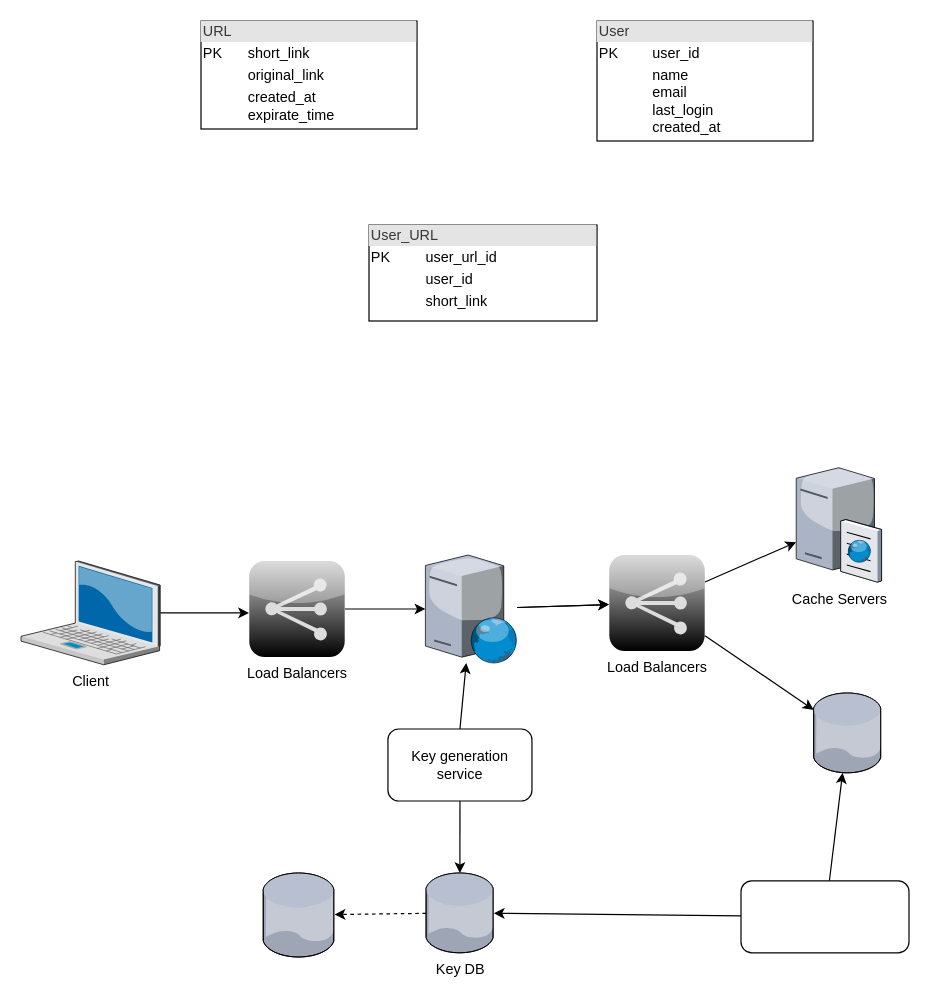
Some shapes in this 930 by 1003 pixel diagram are drawn without their labels. Here are the shapes that lost their labels. From the top down, the centre of each, then its label:
[471,608]: Application Servers
[847,732]: DB
[298,914]: Key DB(standby)
[824,916]: cleanup service
